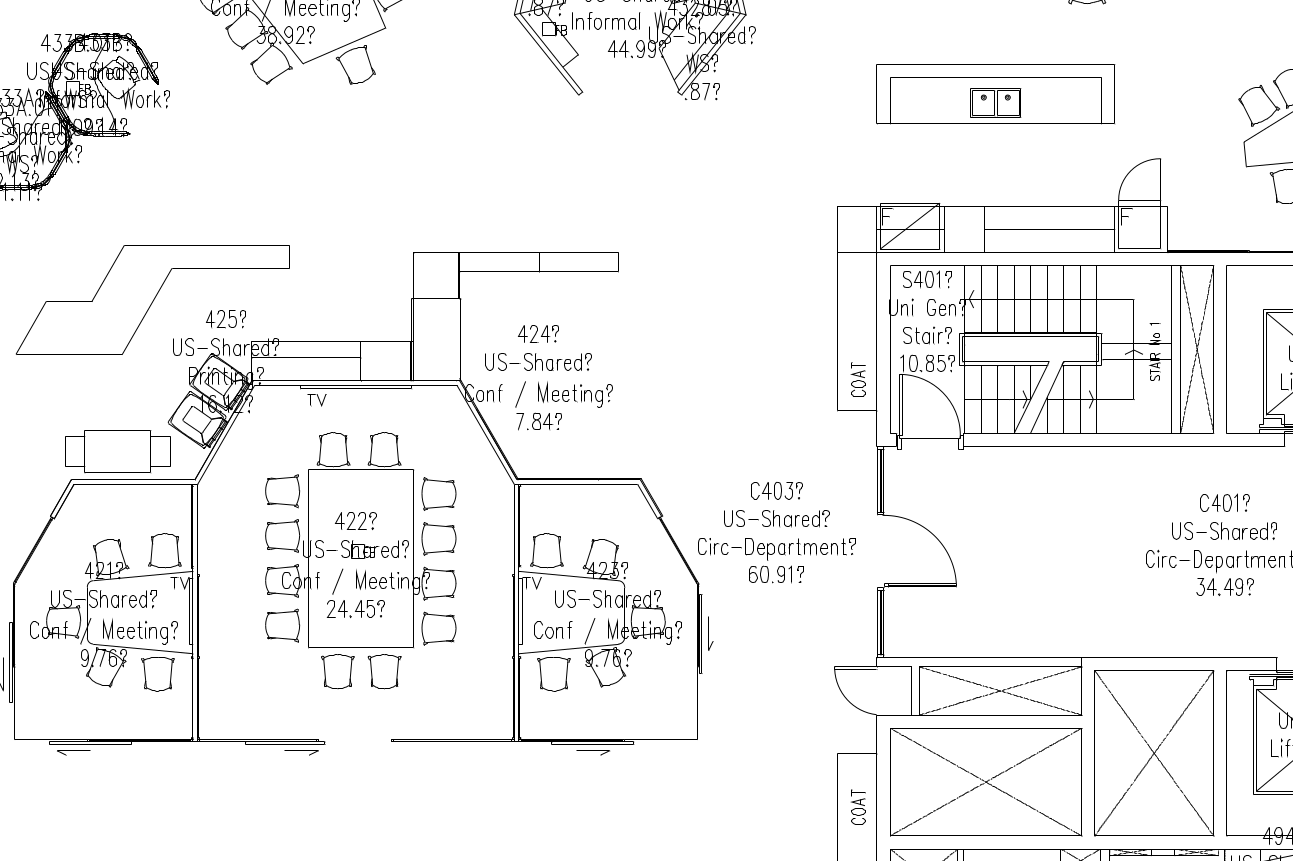door: (872, 514, 963, 592), (897, 370, 961, 440), (1107, 137, 1171, 207), (813, 655, 877, 725)
